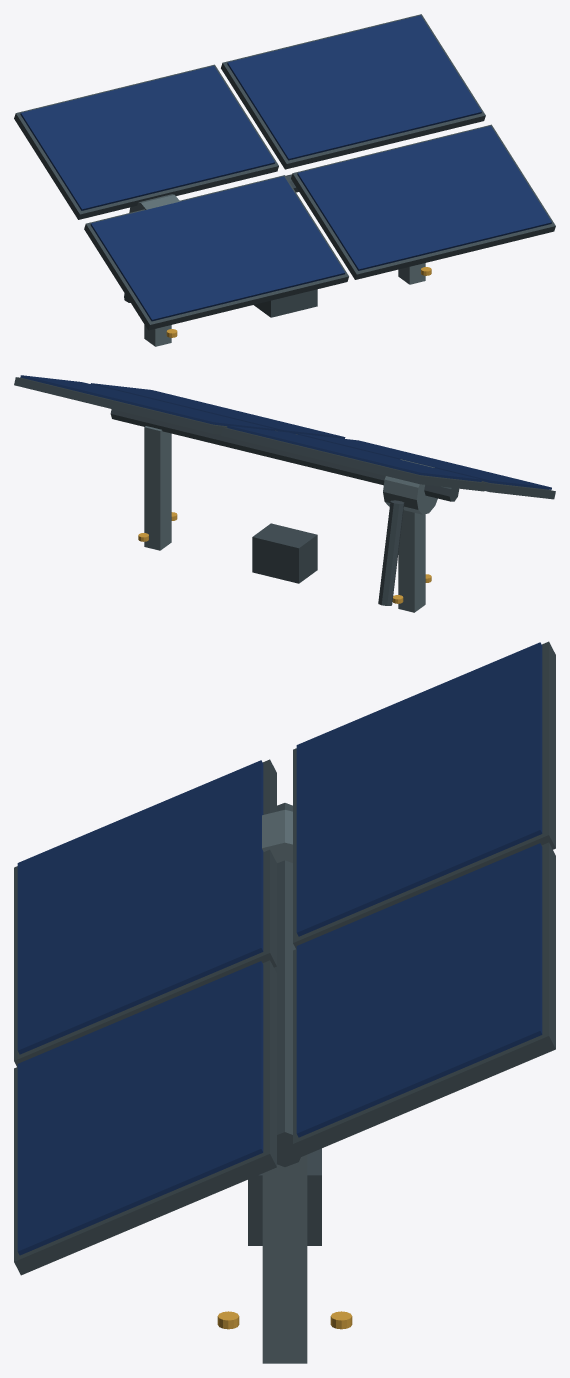
The model's file is solar_panel_rack_d0.glb.
3 renders of one model, top to bottom at view 1: azimuth 30°, elevation 25°; view 2: azimuth 150°, elevation 25°; view 3: azimuth 270°, elevation 25°, orthographic. The views are drawn at different scales.
Parts seen in each view (by area): view 1: SOLAR_GAME_MESH; view 2: SOLAR_GAME_MESH; view 3: SOLAR_GAME_MESH.
Part boxes in pixels (bbox=[...]): SOLAR_GAME_MESH: bbox=[14, 14, 555, 346]; SOLAR_GAME_MESH: bbox=[14, 375, 555, 612]; SOLAR_GAME_MESH: bbox=[14, 641, 555, 1363].
Bounding box in the file's own units: 4.79 × 2.24 × 2.78.
